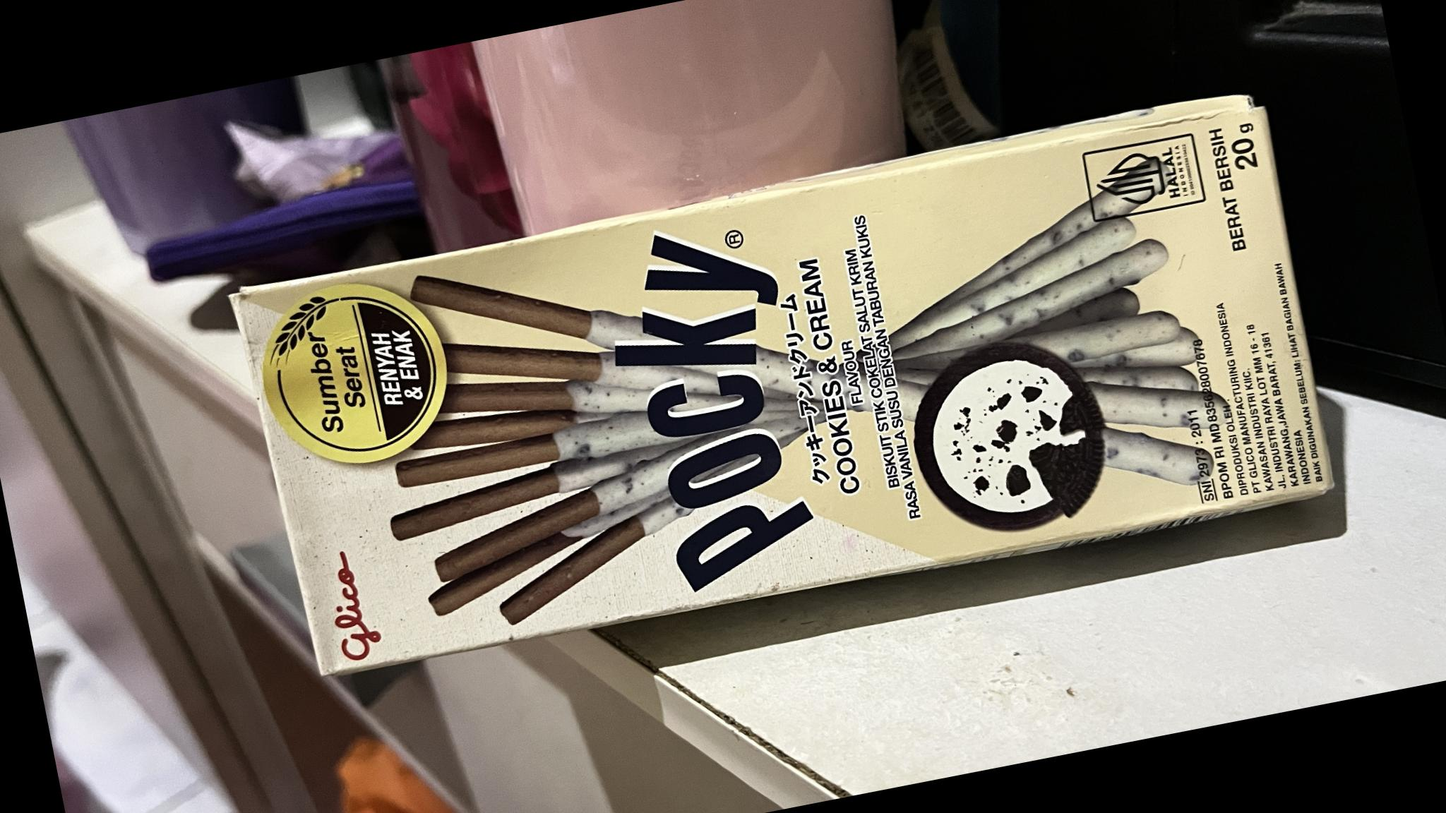Kertas: (232, 102, 1336, 675)
